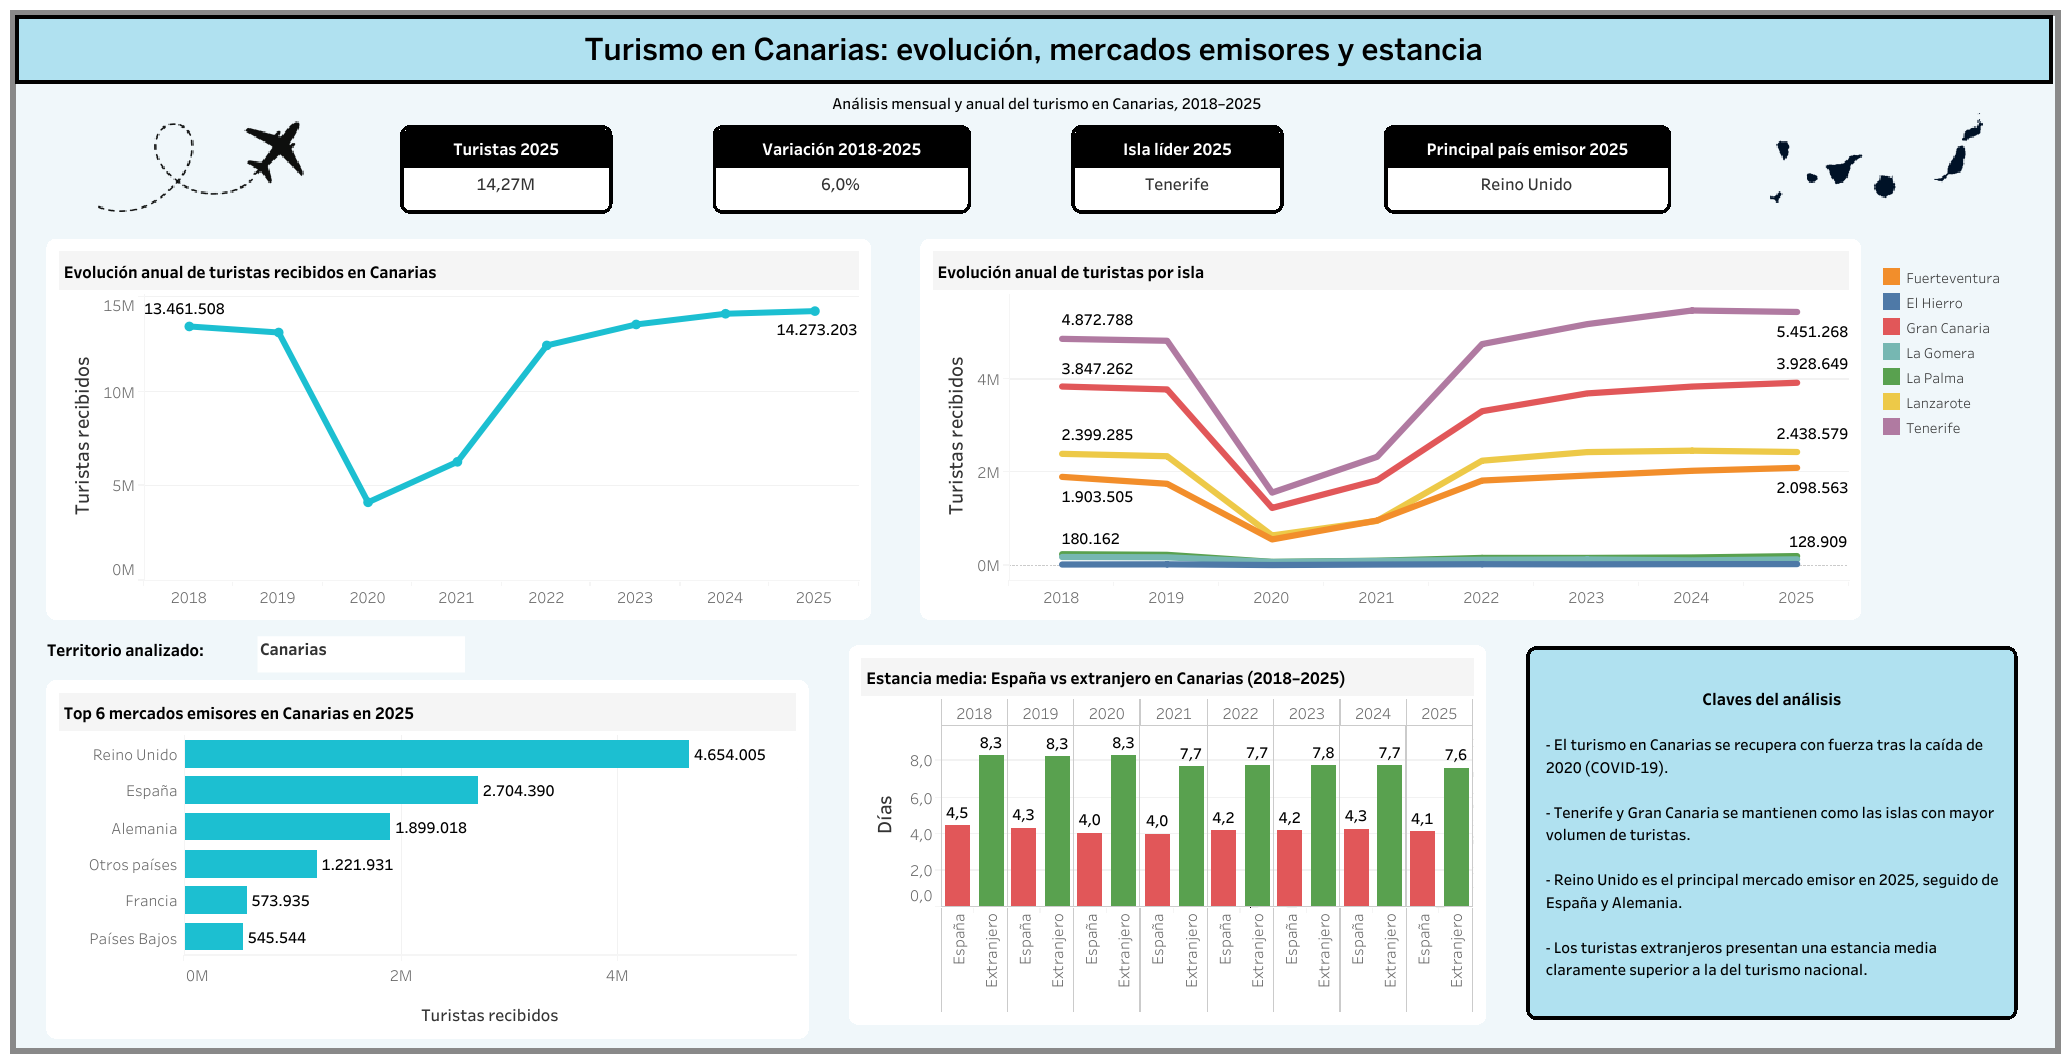

The page's visual inventory and layout, read from the dashboard file:
{"tool":"tableau","page":{"name":"Dashboard 1","canvas":[1657,851],"ordinal":0},"visuals":[{"type":"title","box":[12,12,1630,55]},{"type":"text","box":[478,46,719,71]},{"type":"image","param":"Image/islascanarias-1.png","box":[1416,90,170,98]},{"type":"image","param":"Image/avion.png","box":[78,97,165,78]},{"type":"worksheet","title":"KPI Turistas 2025","mark":"Automatic","box":[320,100,170,71]},{"type":"worksheet","title":"KPI Variación 2018-2025","mark":"Automatic","box":[570,100,207,71]},{"type":"worksheet","title":"KPI isla líder","mark":"Automatic","box":[857,100,170,71]},{"type":"worksheet","title":"KPI Mercado principal 2025","mark":"Automatic","box":[1107,100,230,71]},{"type":"worksheet","title":"Evolución anual turistas Canarias","mark":"Line","rows":["OBS_VALUE"],"cols":["FECHA"],"box":[32,186,670,315]},{"type":"worksheet","title":"Evolución anual turistas isla","mark":"Line","rows":["OBS_VALUE"],"cols":["FECHA"],"box":[731,186,763,315]},{"type":"legend","title":"Evolución anual turistas isla","param":"[federated.18tsdpn0eb676u15jhjo205qwgm9].[none:TERRITORIO:nk]","box":[1503,211,119,144]},{"type":"text","box":[35,494,179,50]},{"type":"text","box":[1211,507,413,319]},{"type":"parameter","param":"[Parameters].[Parámetro 1321939320729600]","box":[206,509,166,29]},{"type":"worksheet","title":"Estancia media Nacional vs Extranjero","mark":"Bar","rows":["OBS_VALUE"],"cols":["FECHA","NACIONALIDAD"],"box":[674,511,520,314]},{"type":"worksheet","title":"Mercados emisores 2025","mark":"Bar","rows":["NACIONALIDAD"],"cols":["OBS_VALUE"],"box":[32,539,620,297]}]}

Visuals, with their boxes in screenshot pixels (x1, y1, x2, y2), scaled from the page's 1657x851 canvas onto the 2070x1063 screenshot:
title: x1=15 y1=15 x2=2051 y2=84
text: x1=597 y1=57 x2=1495 y2=146
image: x1=1769 y1=112 x2=1981 y2=235
image: x1=97 y1=121 x2=304 y2=219
"KPI Turistas 2025" worksheet: x1=400 y1=125 x2=612 y2=214
"KPI Variación 2018-2025" worksheet: x1=712 y1=125 x2=971 y2=214
"KPI isla líder" worksheet: x1=1071 y1=125 x2=1283 y2=214
"KPI Mercado principal 2025" worksheet: x1=1383 y1=125 x2=1670 y2=214
"Evolución anual turistas Canarias" worksheet (Line marks): x1=40 y1=232 x2=877 y2=626
"Evolución anual turistas isla" worksheet (Line marks): x1=913 y1=232 x2=1866 y2=626
"Evolución anual turistas isla" legend: x1=1878 y1=264 x2=2026 y2=443
text: x1=44 y1=617 x2=267 y2=680
text: x1=1513 y1=633 x2=2029 y2=1032
parameter: x1=257 y1=636 x2=465 y2=672
"Estancia media Nacional vs Extranjero" worksheet (Bar marks): x1=842 y1=638 x2=1492 y2=1031
"Mercados emisores 2025" worksheet (Bar marks): x1=40 y1=673 x2=815 y2=1044
